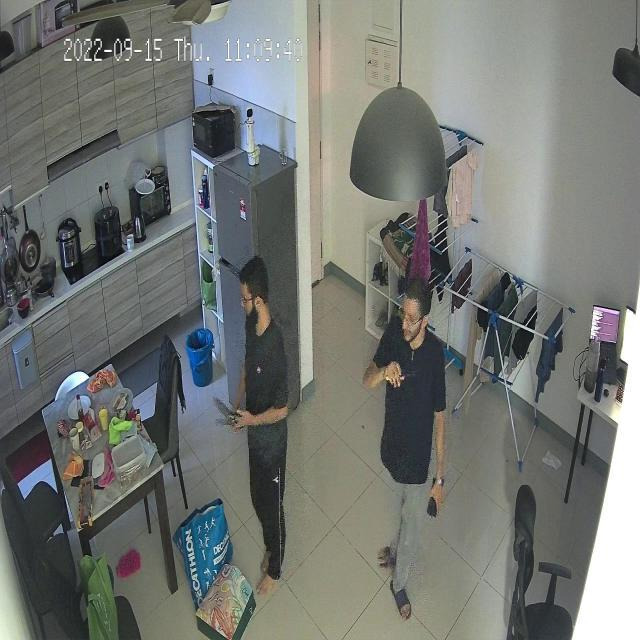Knife: (206, 391, 246, 427)
